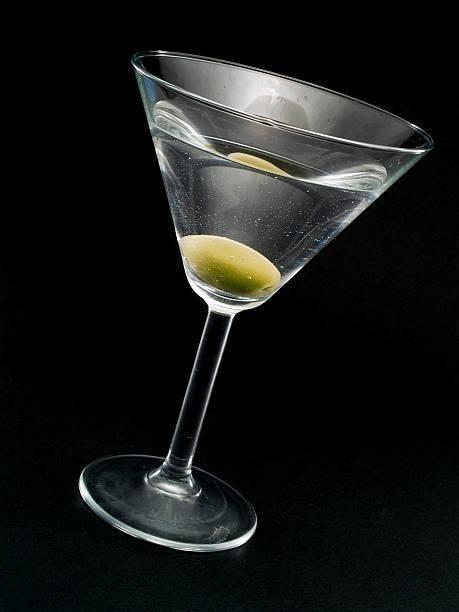glass-wine: (73, 50, 433, 556)
